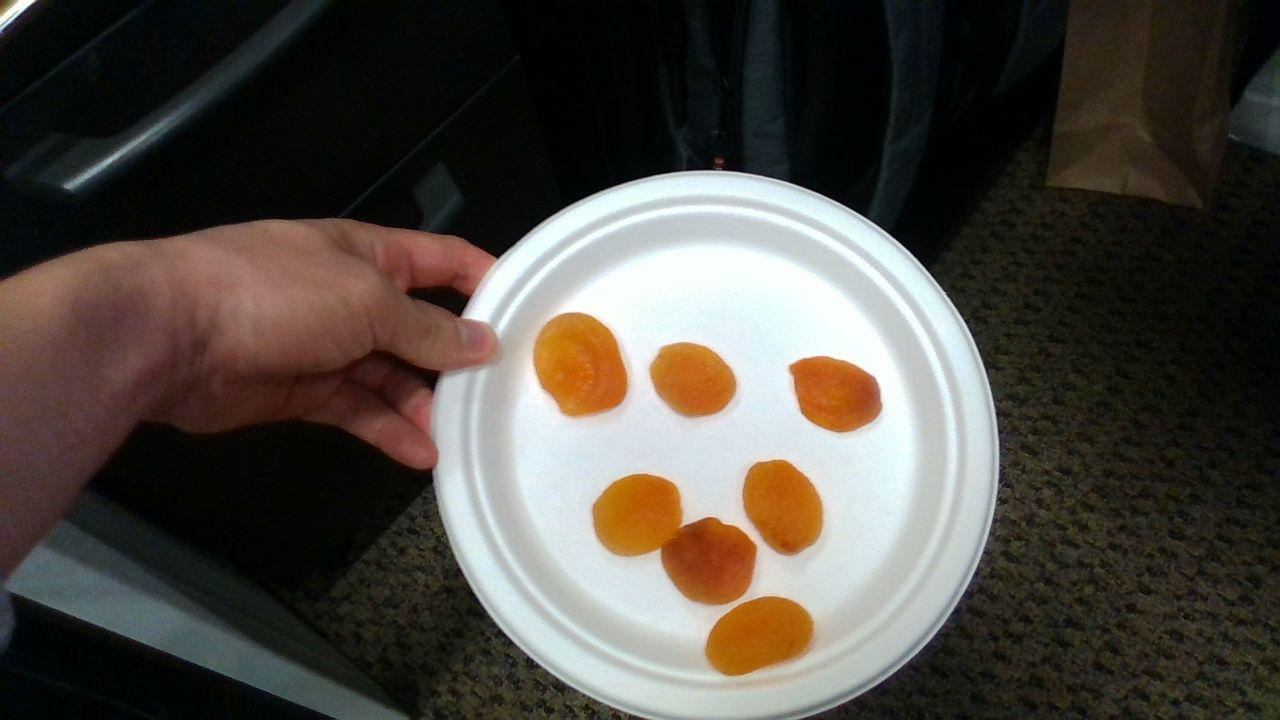apricot: (534, 312, 626, 417), (706, 597, 812, 674), (663, 519, 756, 604), (744, 461, 822, 556), (594, 473, 682, 557), (791, 358, 881, 432), (652, 344, 736, 417)
